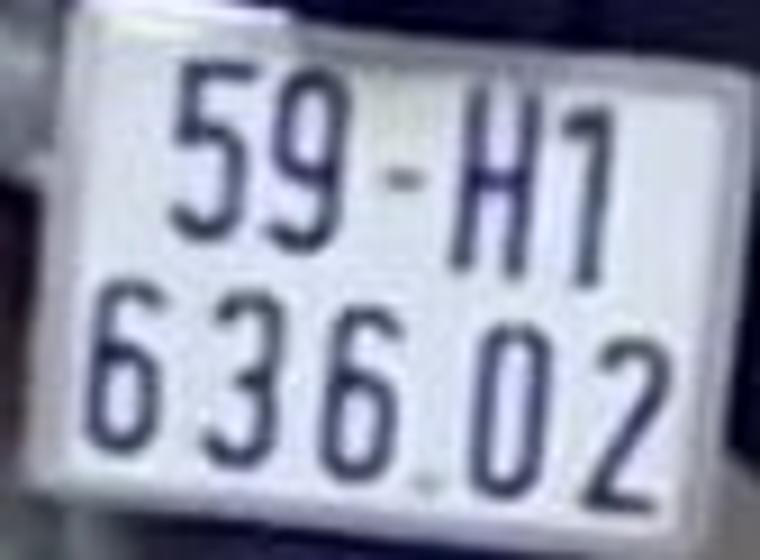-: (386, 165, 428, 197)
.: (415, 475, 440, 496)
0: (465, 321, 545, 504)
1: (559, 101, 605, 288)
2: (586, 333, 667, 517)
3: (199, 287, 282, 472)
5: (174, 50, 245, 245)
6: (319, 299, 406, 487), (87, 279, 158, 442)
9: (271, 65, 345, 253)
H: (449, 78, 541, 278)
